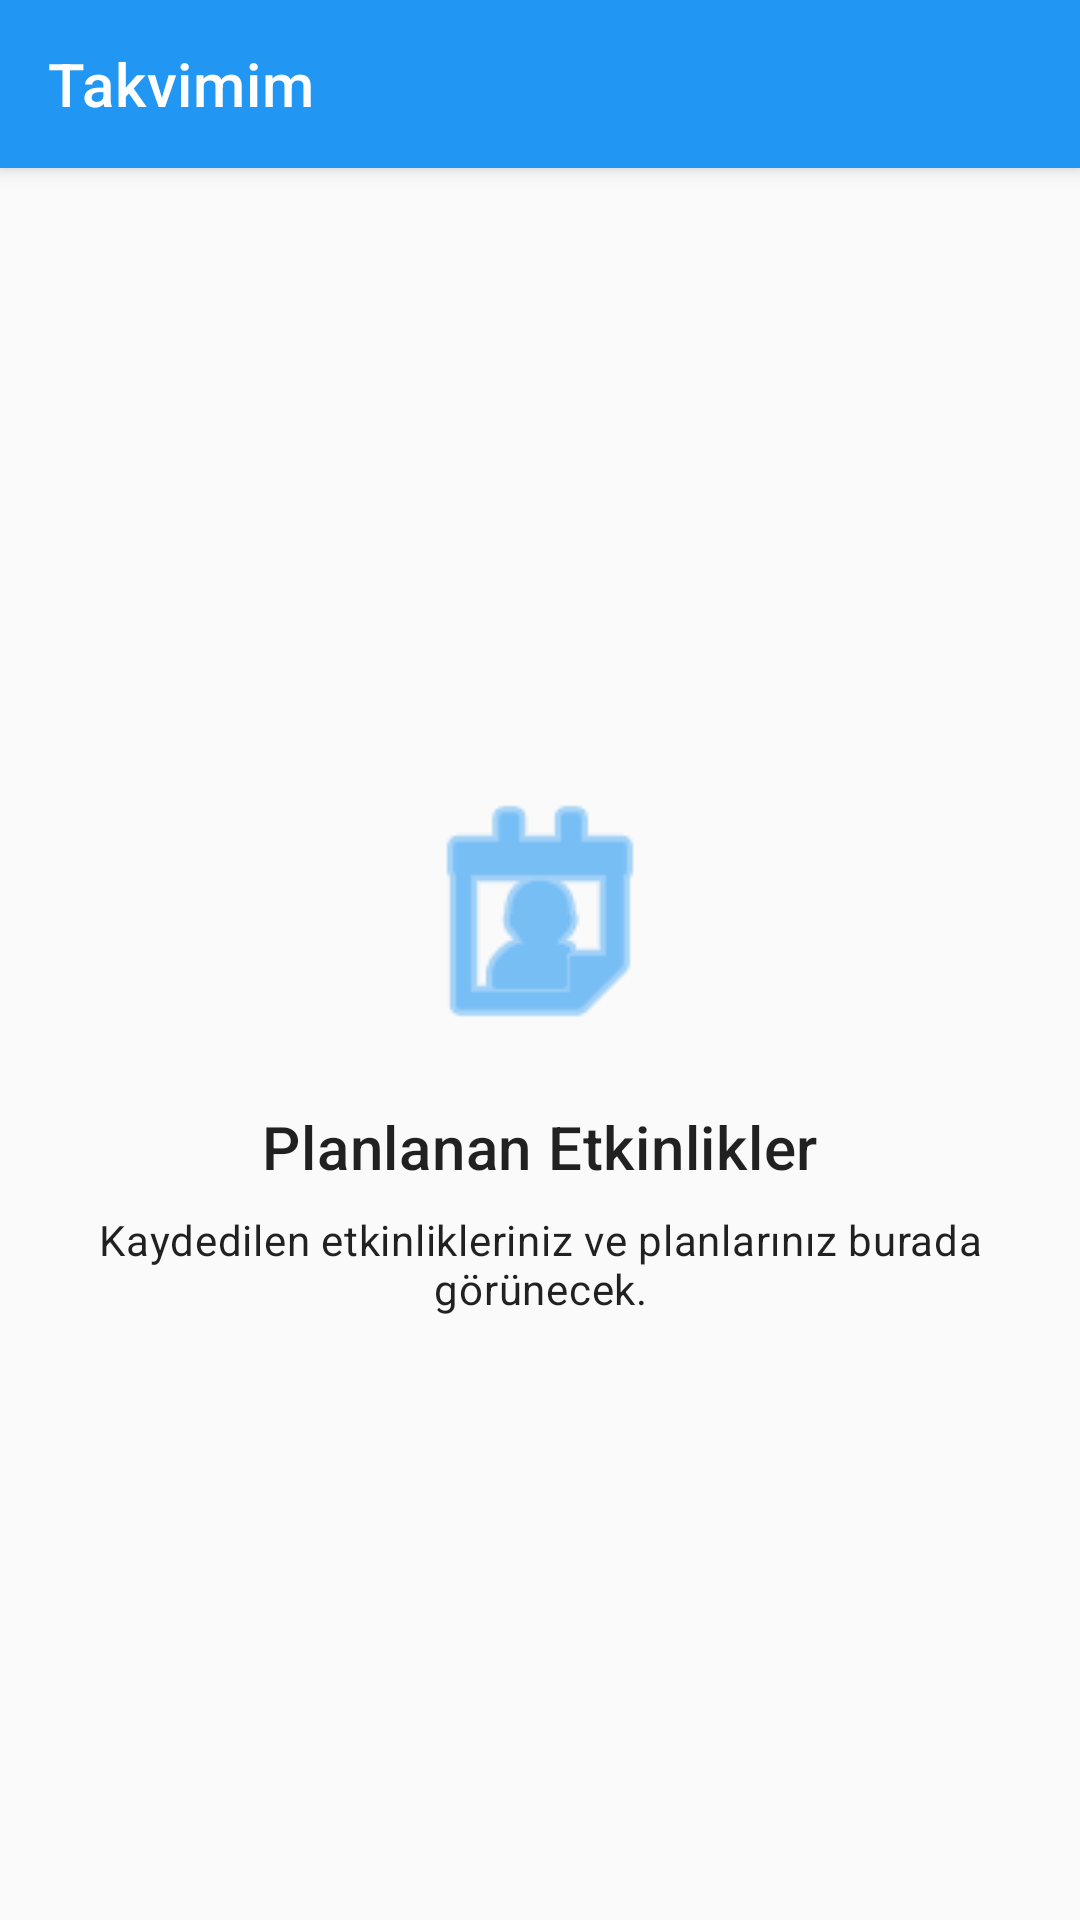

Icon bounding boxes for this 1080w x 1920h phone screenshot, format bbox=(x1, y1, x2, y2):
calendar: bbox=(446, 805, 634, 1017)
